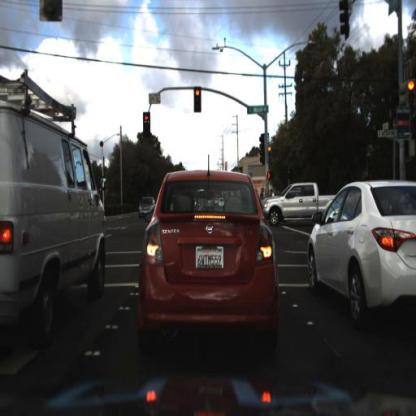car: (1, 72, 113, 333), (142, 170, 277, 349), (303, 175, 416, 319), (265, 181, 339, 230), (262, 180, 338, 224), (136, 194, 155, 221)
trafficLight-Red: (406, 79, 416, 115), (194, 87, 202, 116), (266, 144, 274, 162), (408, 78, 416, 95)
trafficLight-RedLeft: (143, 111, 151, 141), (145, 111, 151, 127)
truck: (2, 74, 108, 331)
